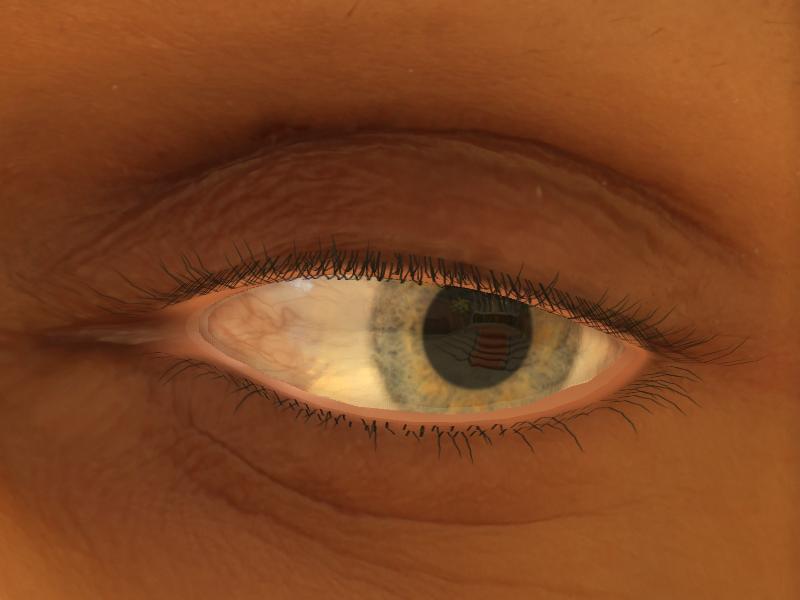eye: (370, 273, 586, 412)
